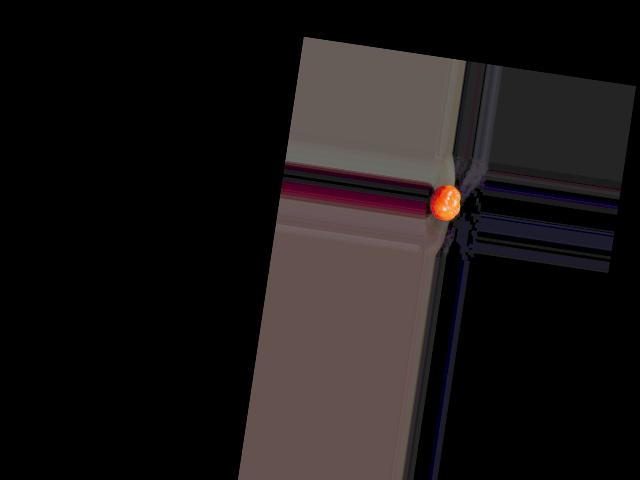tomato: (427, 183, 462, 223)
